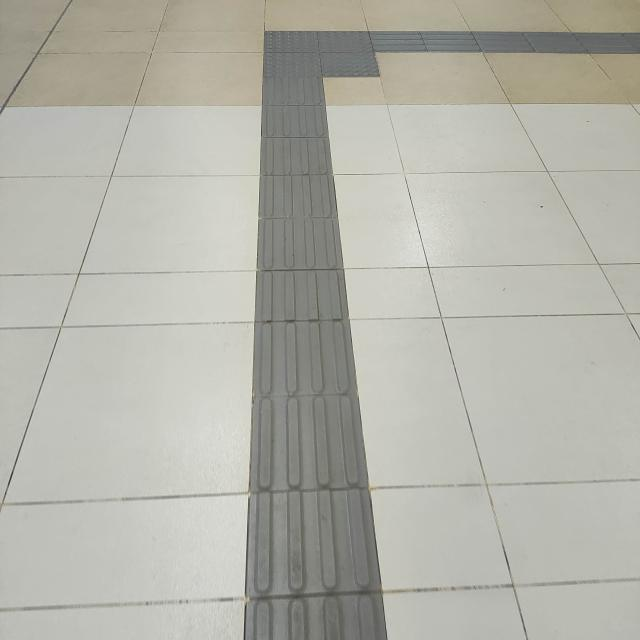kanan: (232, 10, 450, 100)
